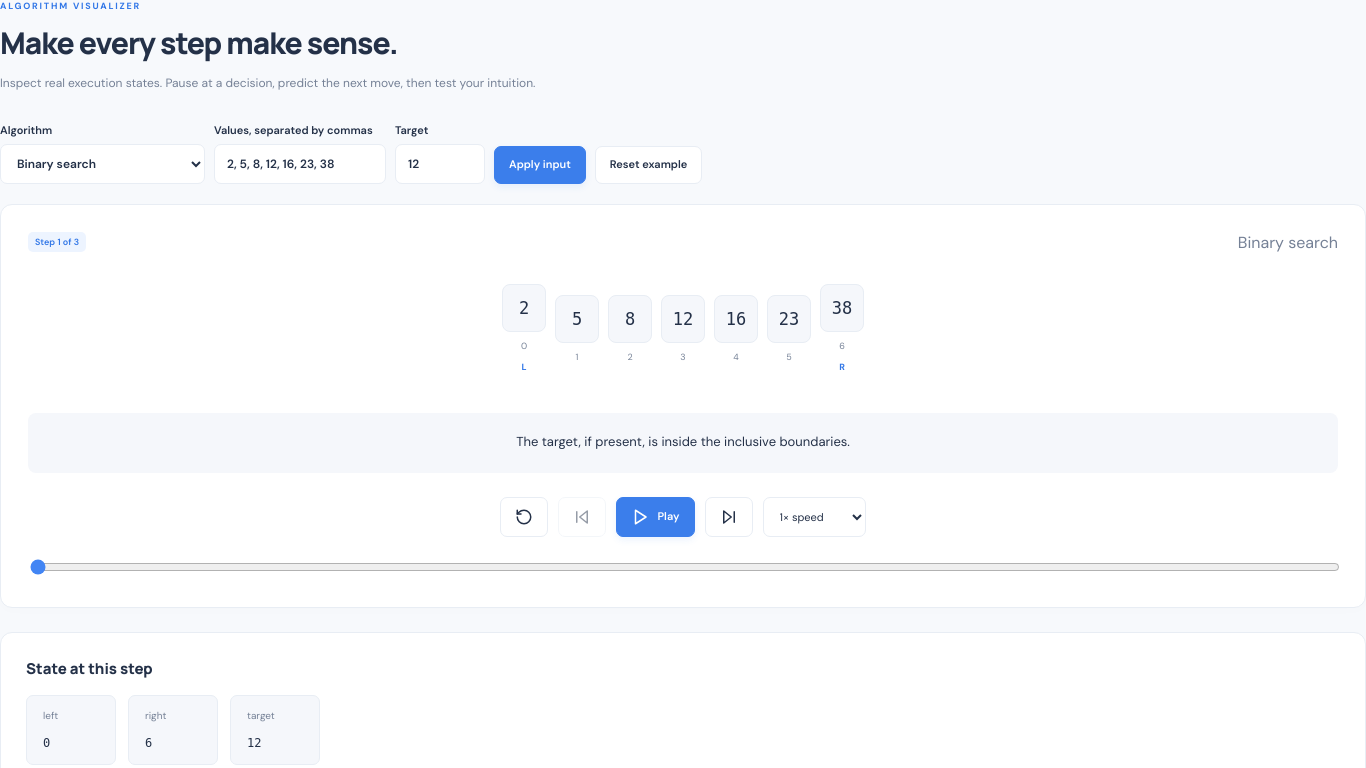
Test: critical learning interactions › moves the visualizer forward and backward and validates edited input
The image size is (1366, 768).
Click the button named "Next step" at [728, 517], box [704, 497, 752, 537]
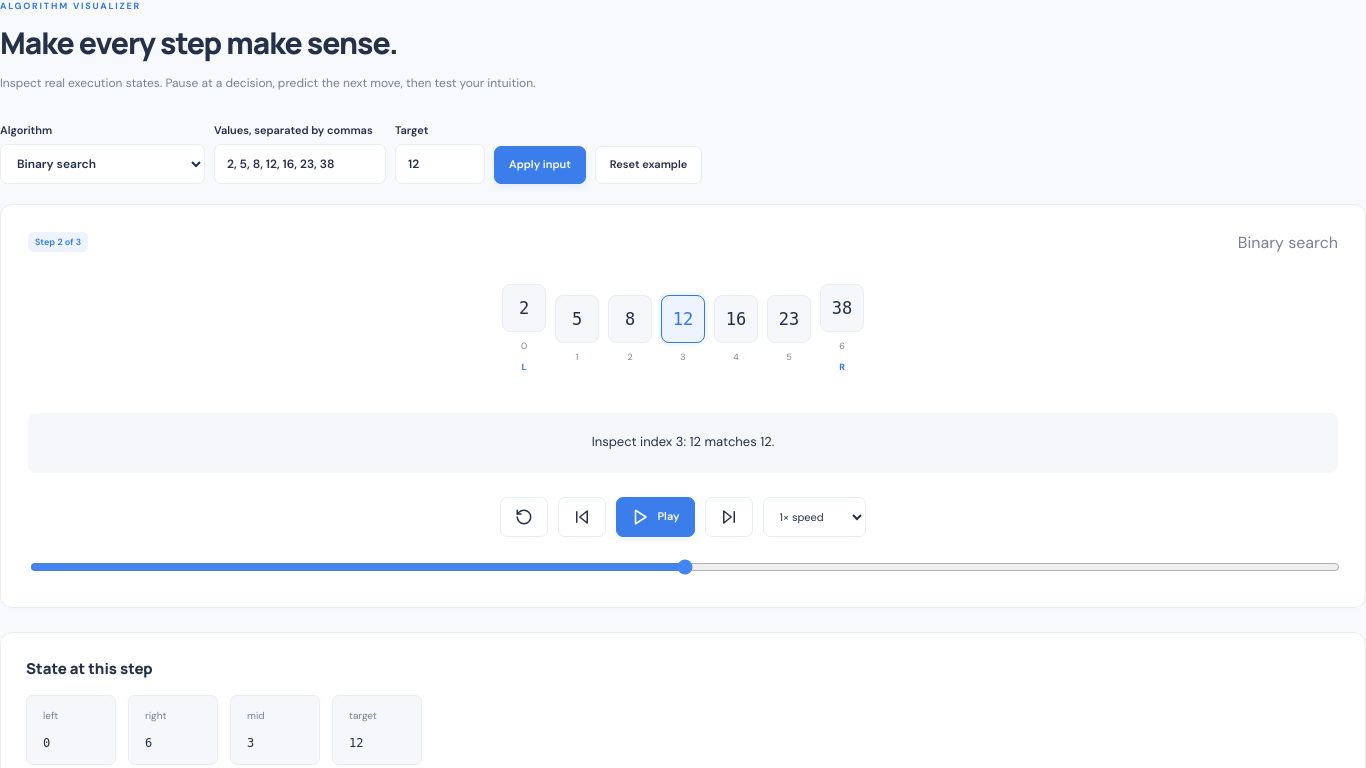
Result: the text "Inspect index 3: 12 matches 12." is shown at [28, 413, 1338, 473]
Click the button named "Previous step" at [582, 517], box [558, 497, 606, 537]
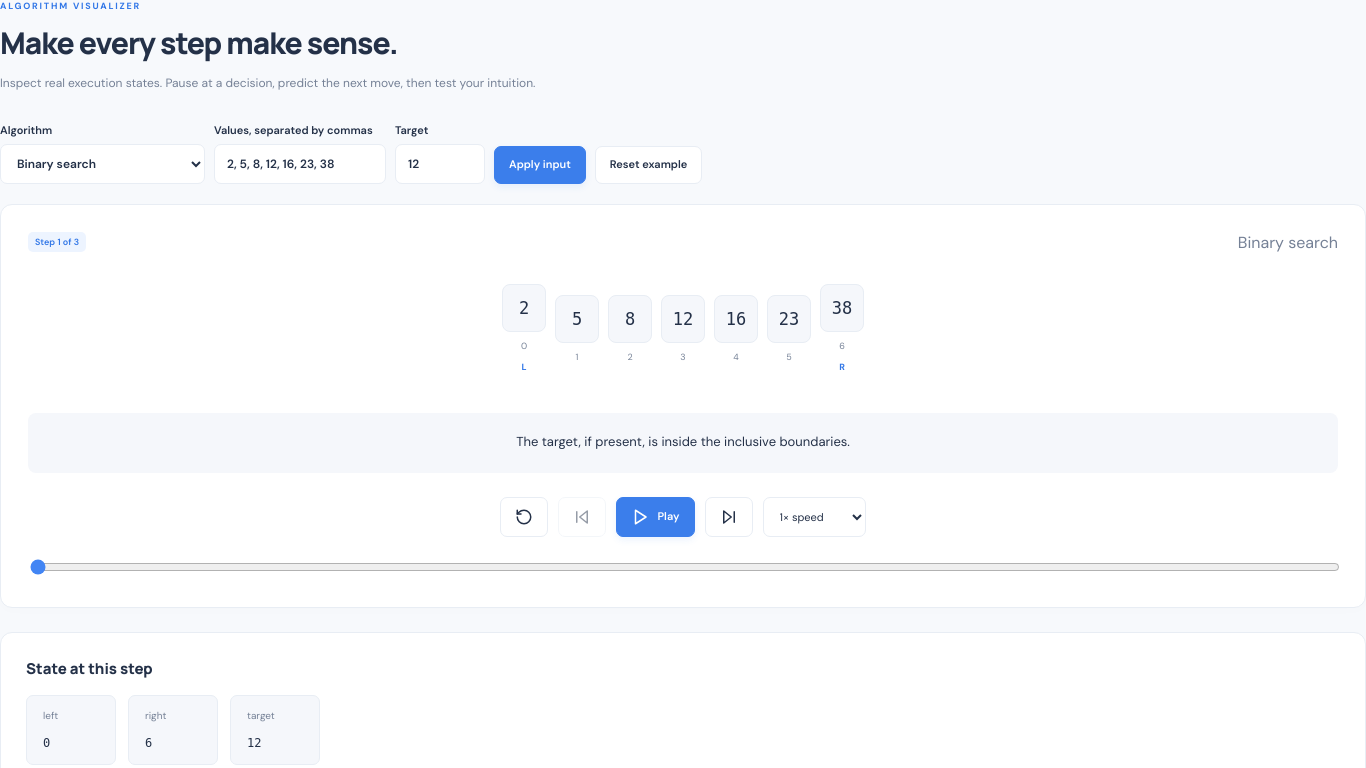
Result: the text "Step 1 of 3" is shown at [28, 232, 86, 252]
Replace the text in the field labelled "Values, separated by commas" with "8,1,4" at [300, 164], box [214, 144, 386, 184]
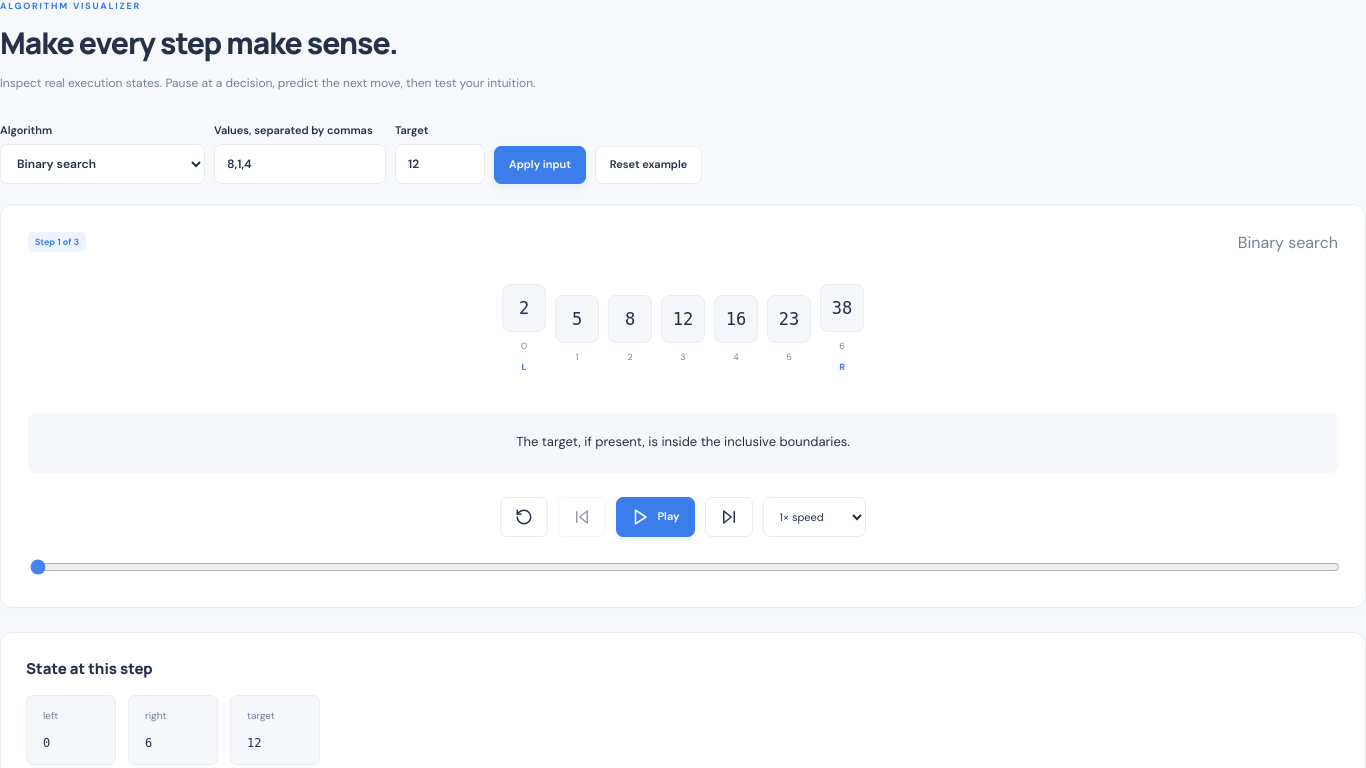
Click the button "Apply input" at [540, 165], box [494, 146, 586, 184]
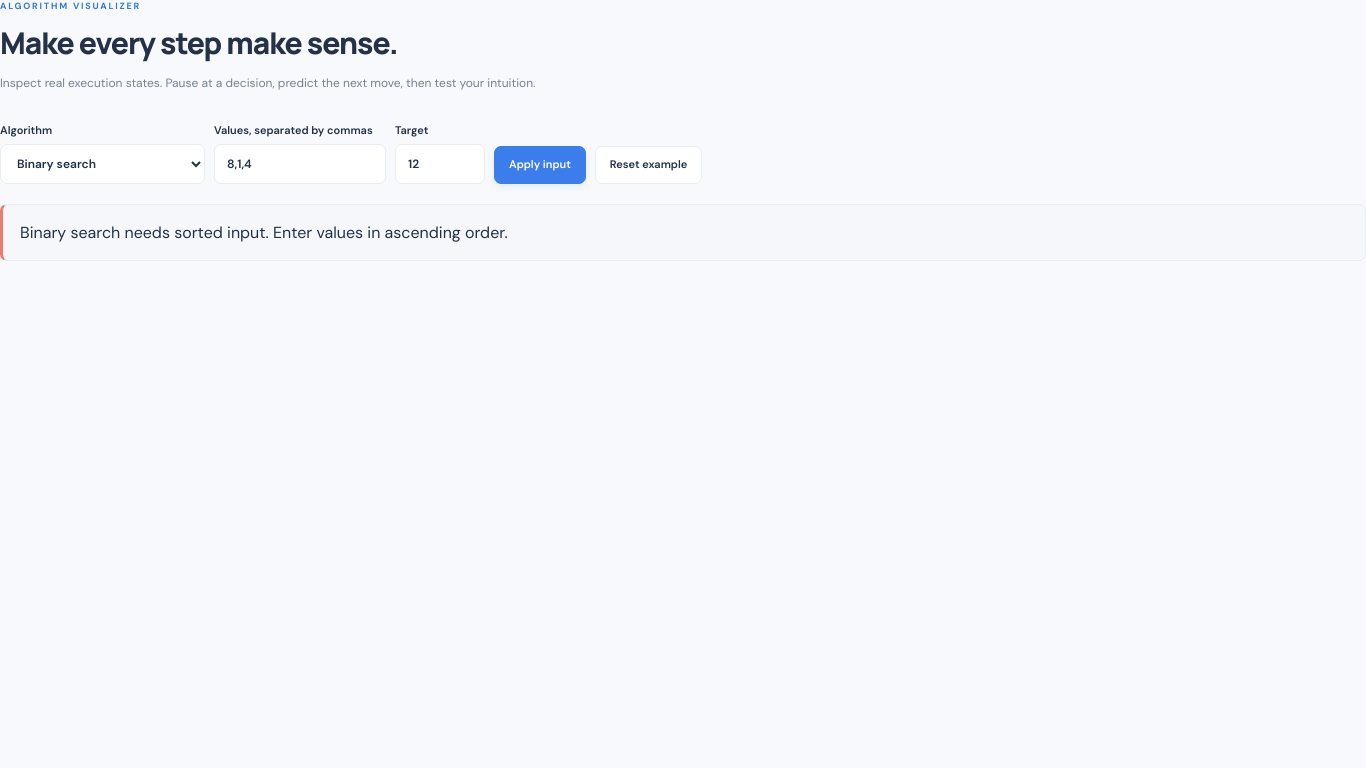
Result: the message shows "sorted" at [20, 222, 508, 243]
